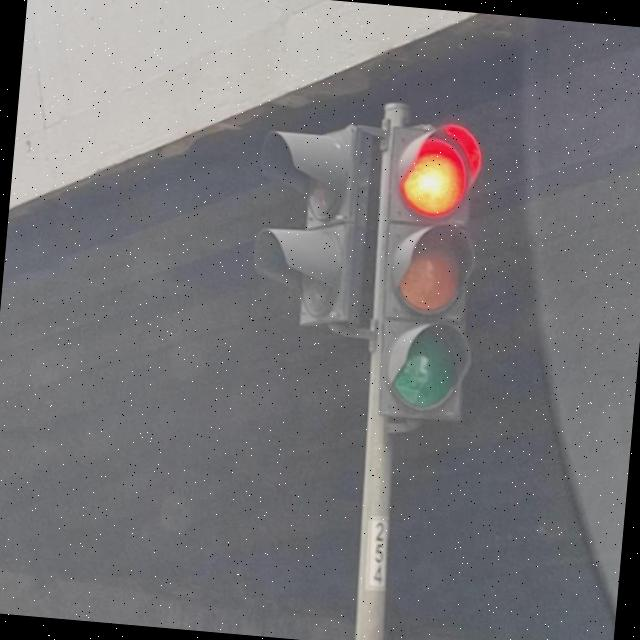red_light: (376, 122, 486, 426)
